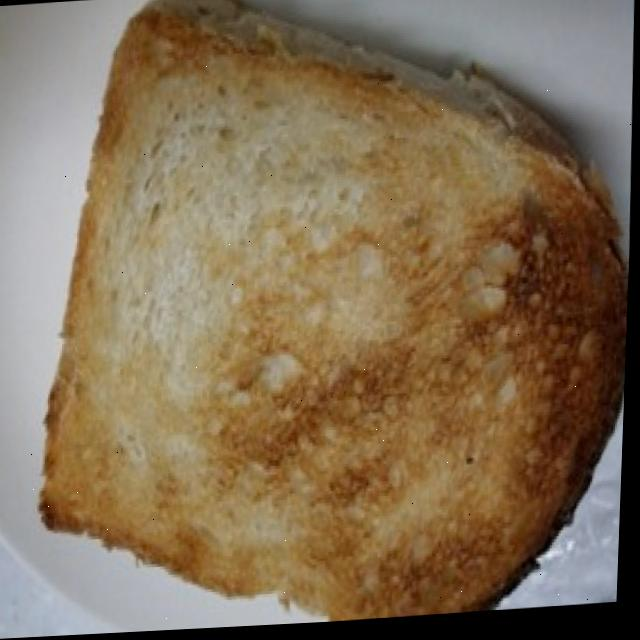面包点心: (36, 0, 631, 638)
